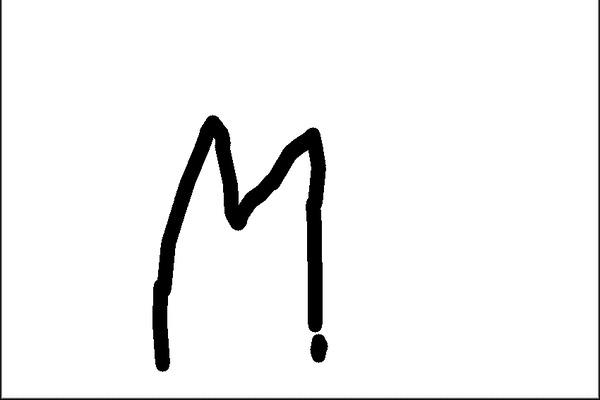M: (148, 111, 328, 364)
